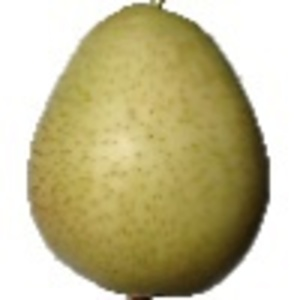pera: (26, 1, 272, 300)
